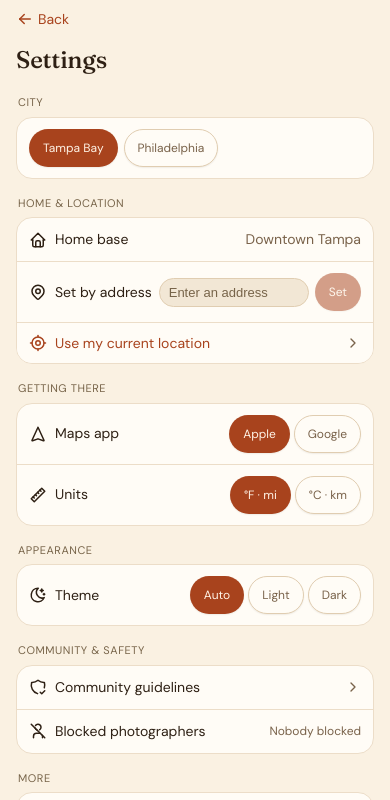
Test case: Settings — location › says what it did on success, even when nothing else visibly changes
Click the button "Use my current location".
click(195, 343)  # box left=17, top=323, right=373, bottom=363
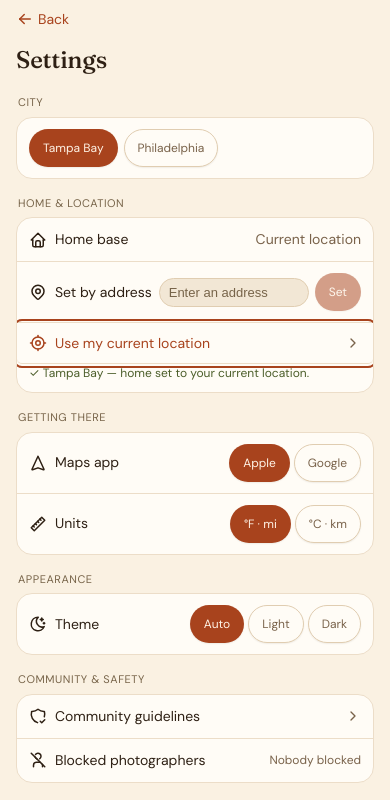
expect the text "✓ Tampa Bay — home set to your current location." is shown: met, box left=29, top=365, right=309, bottom=381
expect the text "Current location" is shown: met, box left=256, top=229, right=361, bottom=250
